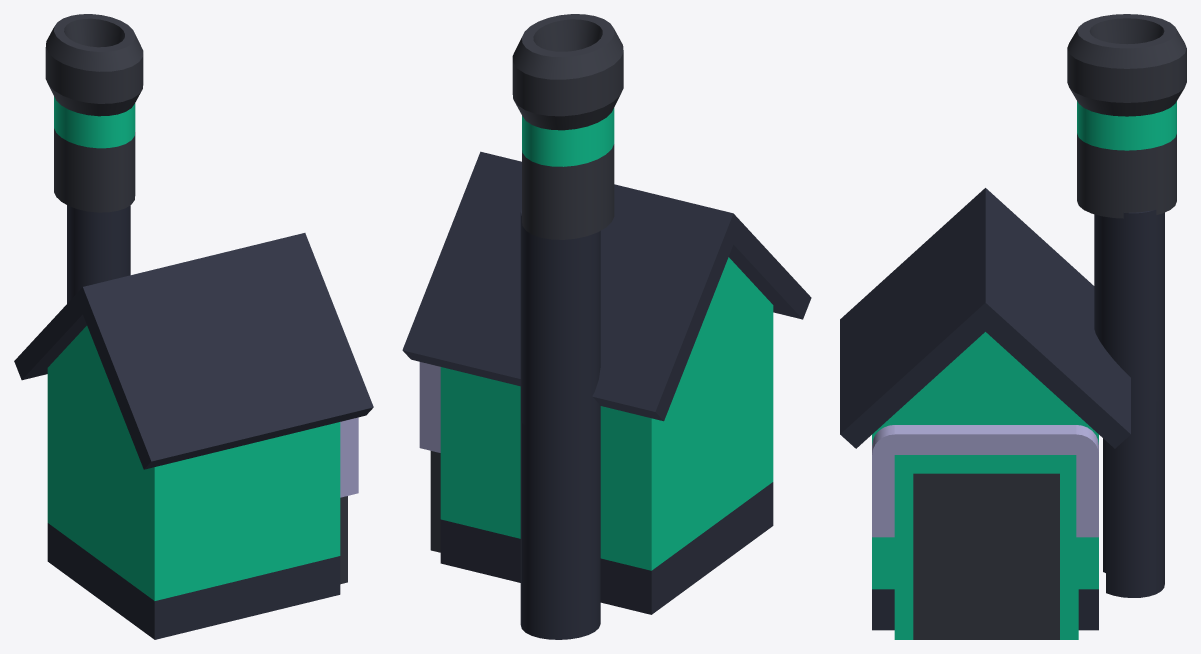
File: deneme.fbx
3 renders of one model, left to right at view 1: azimuth 30°, elevation 25°; view 2: azimuth 150°, elevation 25°; view 3: azimuth 270°, elevation 25°, orthographic. The views are drawn at different scales.
Parts seen in each view (by area): view 1: mergedBlocks; view 2: mergedBlocks; view 3: mergedBlocks.
Part boxes in pixels (x1,y1,x2,y2): mergedBlocks: (14,14,373,639); mergedBlocks: (402,14,811,639); mergedBlocks: (840,14,1186,639).
Size of the model in its own units: 12 by 26.72 by 15.29.
